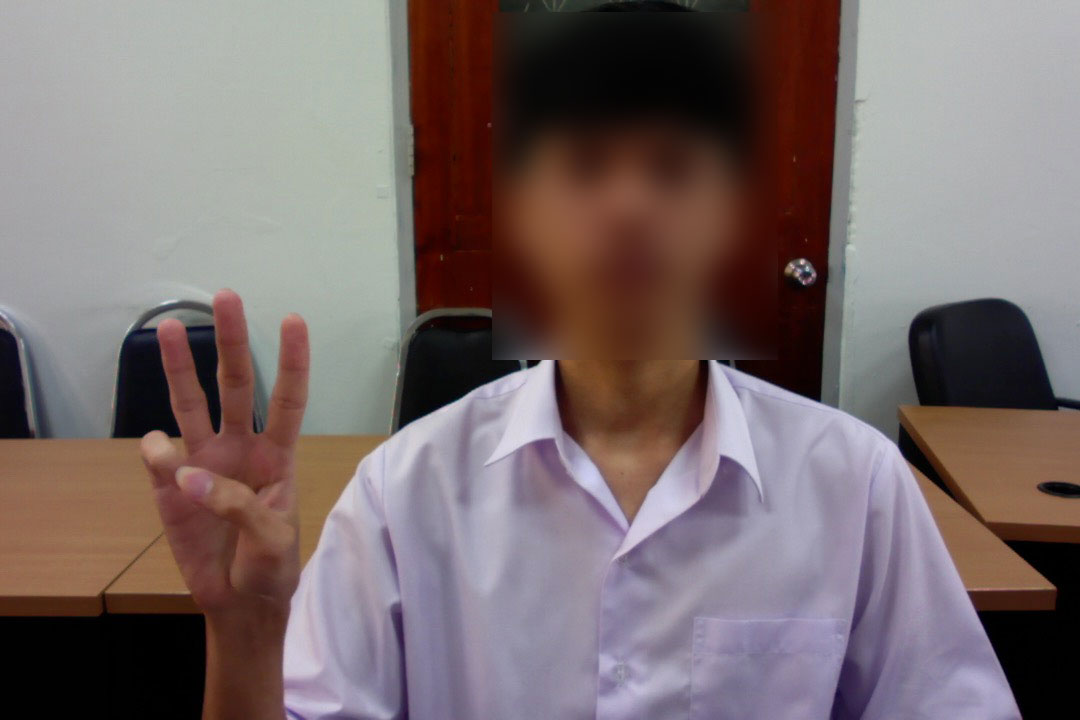wor: (116, 287, 330, 625)
